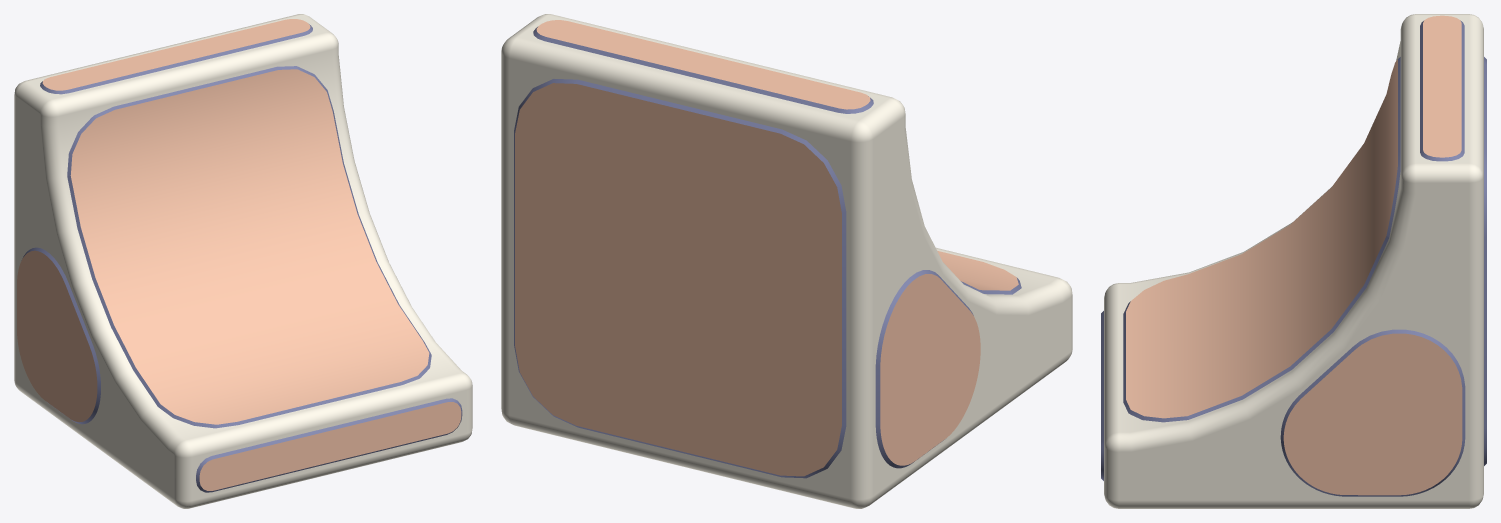
The model's file is R4B_CoveEdge.fbx.
3 renders of one model, left to right at view 1: azimuth 30°, elevation 25°; view 2: azimuth 150°, elevation 25°; view 3: azimuth 270°, elevation 25°, orthographic. The views are drawn at different scales.
Visible parts, largest first — view 1: R4B_CoveEdge; view 2: R4B_CoveEdge; view 3: R4B_CoveEdge.
Boxes of the visible parts, left/top/right/bottom form: R4B_CoveEdge: left=14, top=14, right=472, bottom=508; R4B_CoveEdge: left=501, top=14, right=1072, bottom=508; R4B_CoveEdge: left=1101, top=14, right=1486, bottom=508.
Size of the model in its own units: 0.52 by 0.52 by 0.52.
